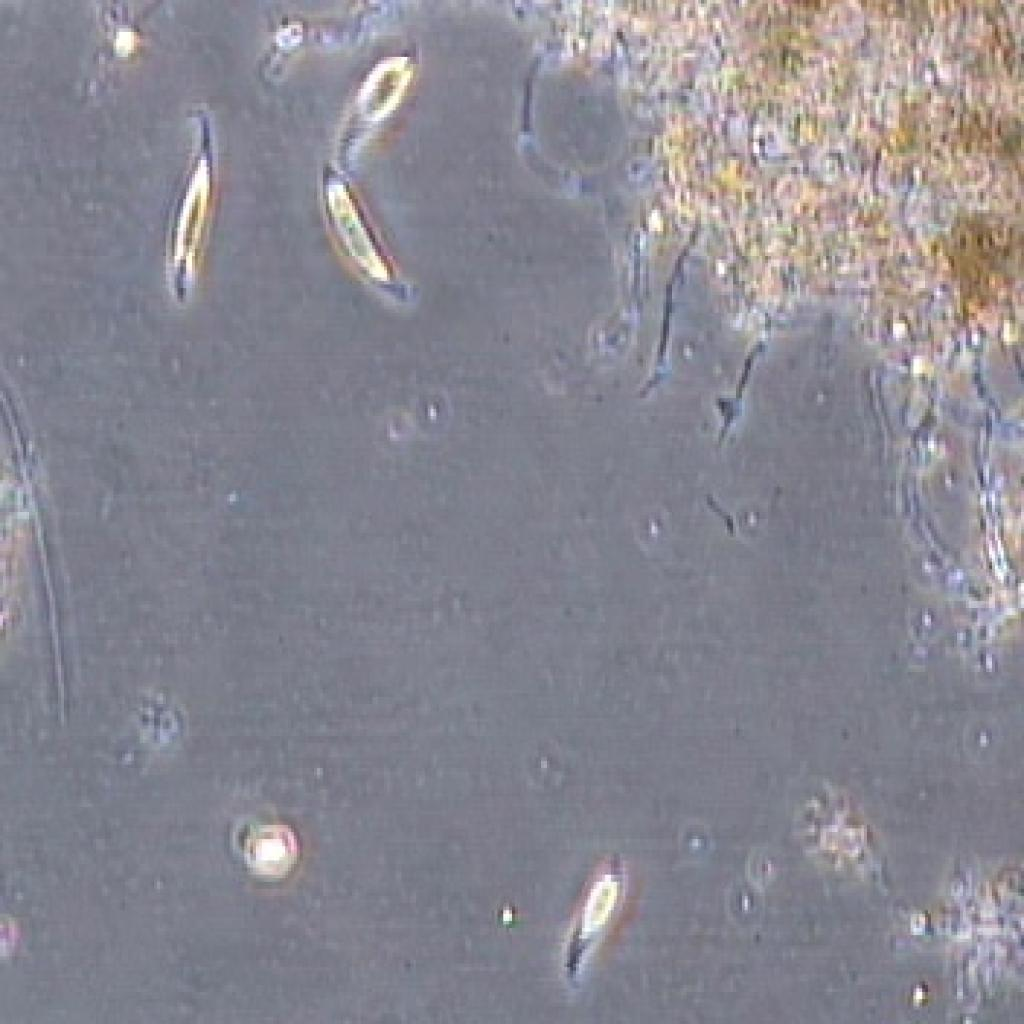Pristina: (300, 156, 419, 334), (157, 89, 242, 313), (330, 34, 432, 158), (558, 832, 626, 996)
